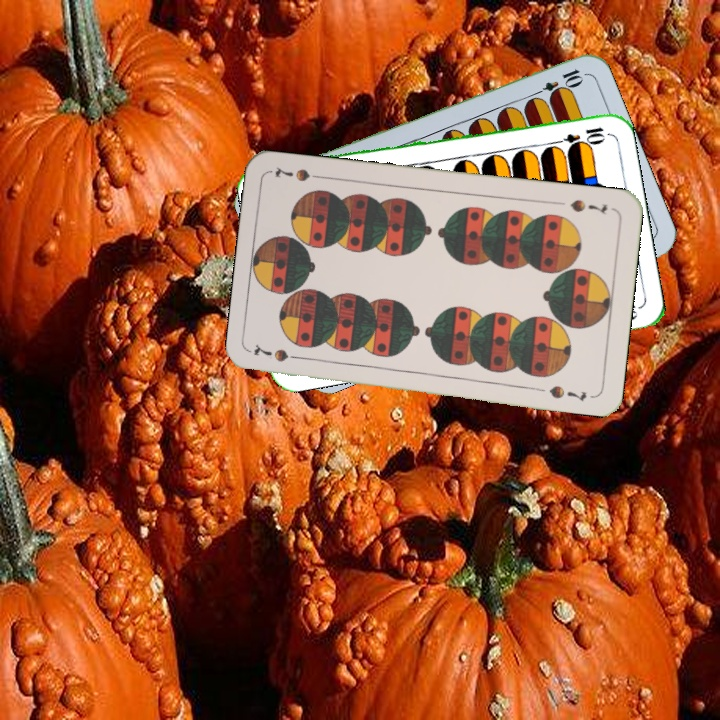E10: (528, 64, 585, 101), (548, 122, 608, 149)
S7: (249, 343, 309, 364), (566, 195, 610, 217)
